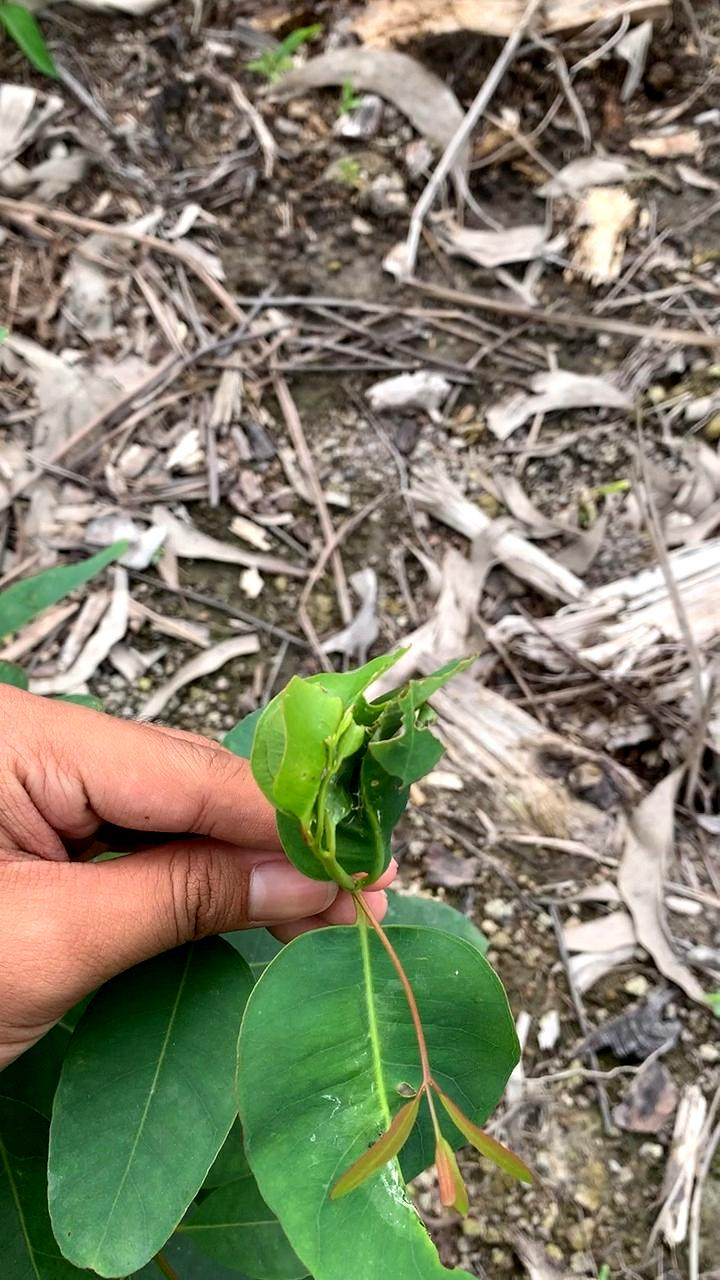Leaf Roller - Leaf: (223, 623, 496, 908)
